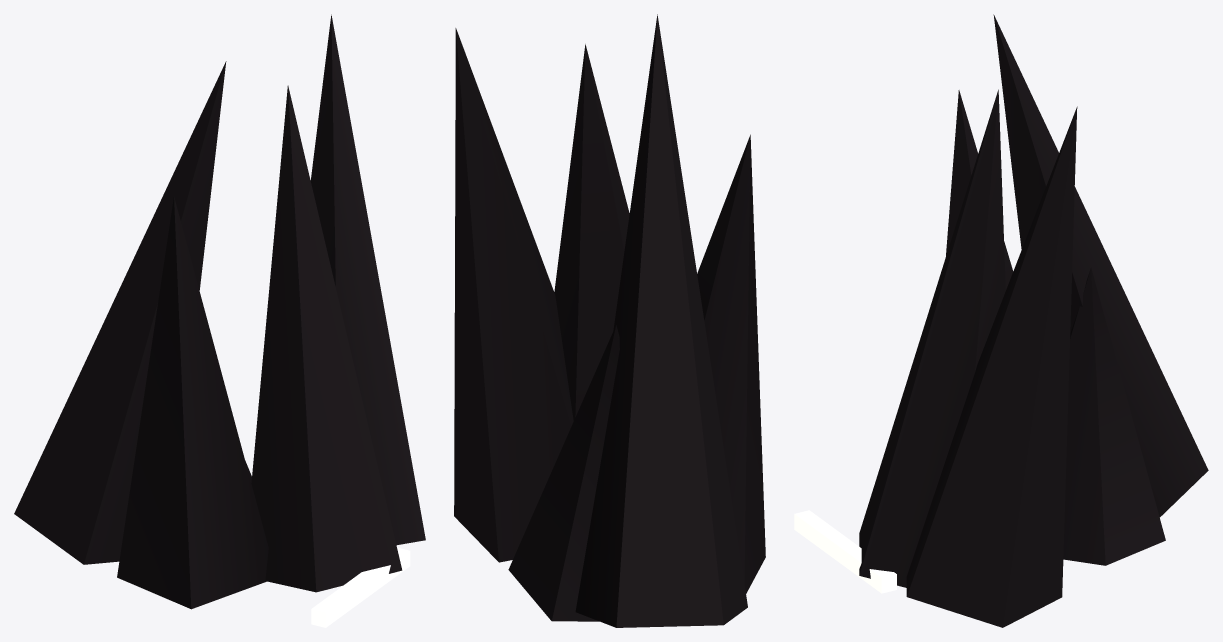
The model's file is cv_glut_deco_2.glb.
3 renders of one model, left to right at view 1: azimuth 30°, elevation 25°; view 2: azimuth 150°, elevation 25°; view 3: azimuth 270°, elevation 25°, orthographic. The views are drawn at different scales.
Parts seen in each view (by area): view 1: body, lava_glow; view 2: body; view 3: body, lava_glow.
Part boxes in pixels (bbox=[...]): body: bbox=[14, 14, 425, 609]; lava_glow: bbox=[311, 547, 410, 627]; body: bbox=[454, 14, 765, 627]; body: bbox=[859, 14, 1208, 627]; lava_glow: bbox=[794, 510, 896, 593].
Size of the model in its own units: 1.31 by 2 by 1.42.
